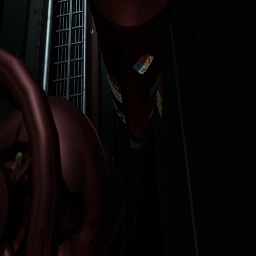NitrogenTank ,: (0, 47, 126, 256), (88, 0, 176, 149)
